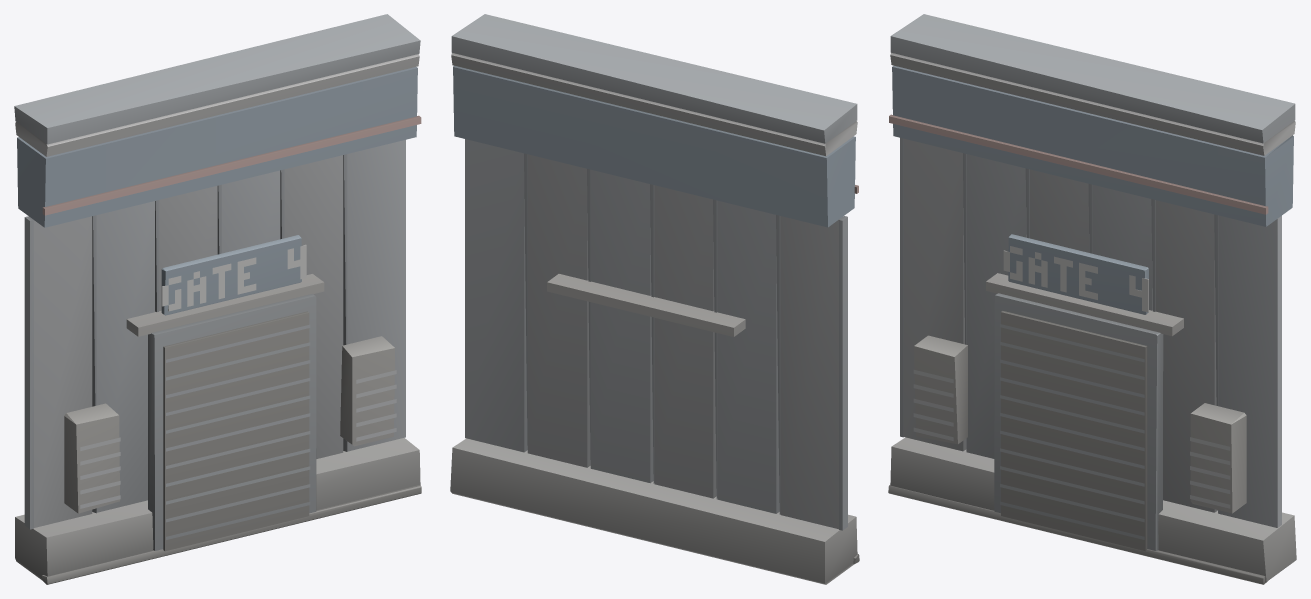
Rendered from sback_gate.lod1.glb.
3 renders of one model, left to right at view 1: azimuth 30°, elevation 25°; view 2: azimuth 150°, elevation 25°; view 3: azimuth 330°, elevation 25°, orthographic.
Size of the model in its own units: 6.03 by 6.95 by 1.05.
